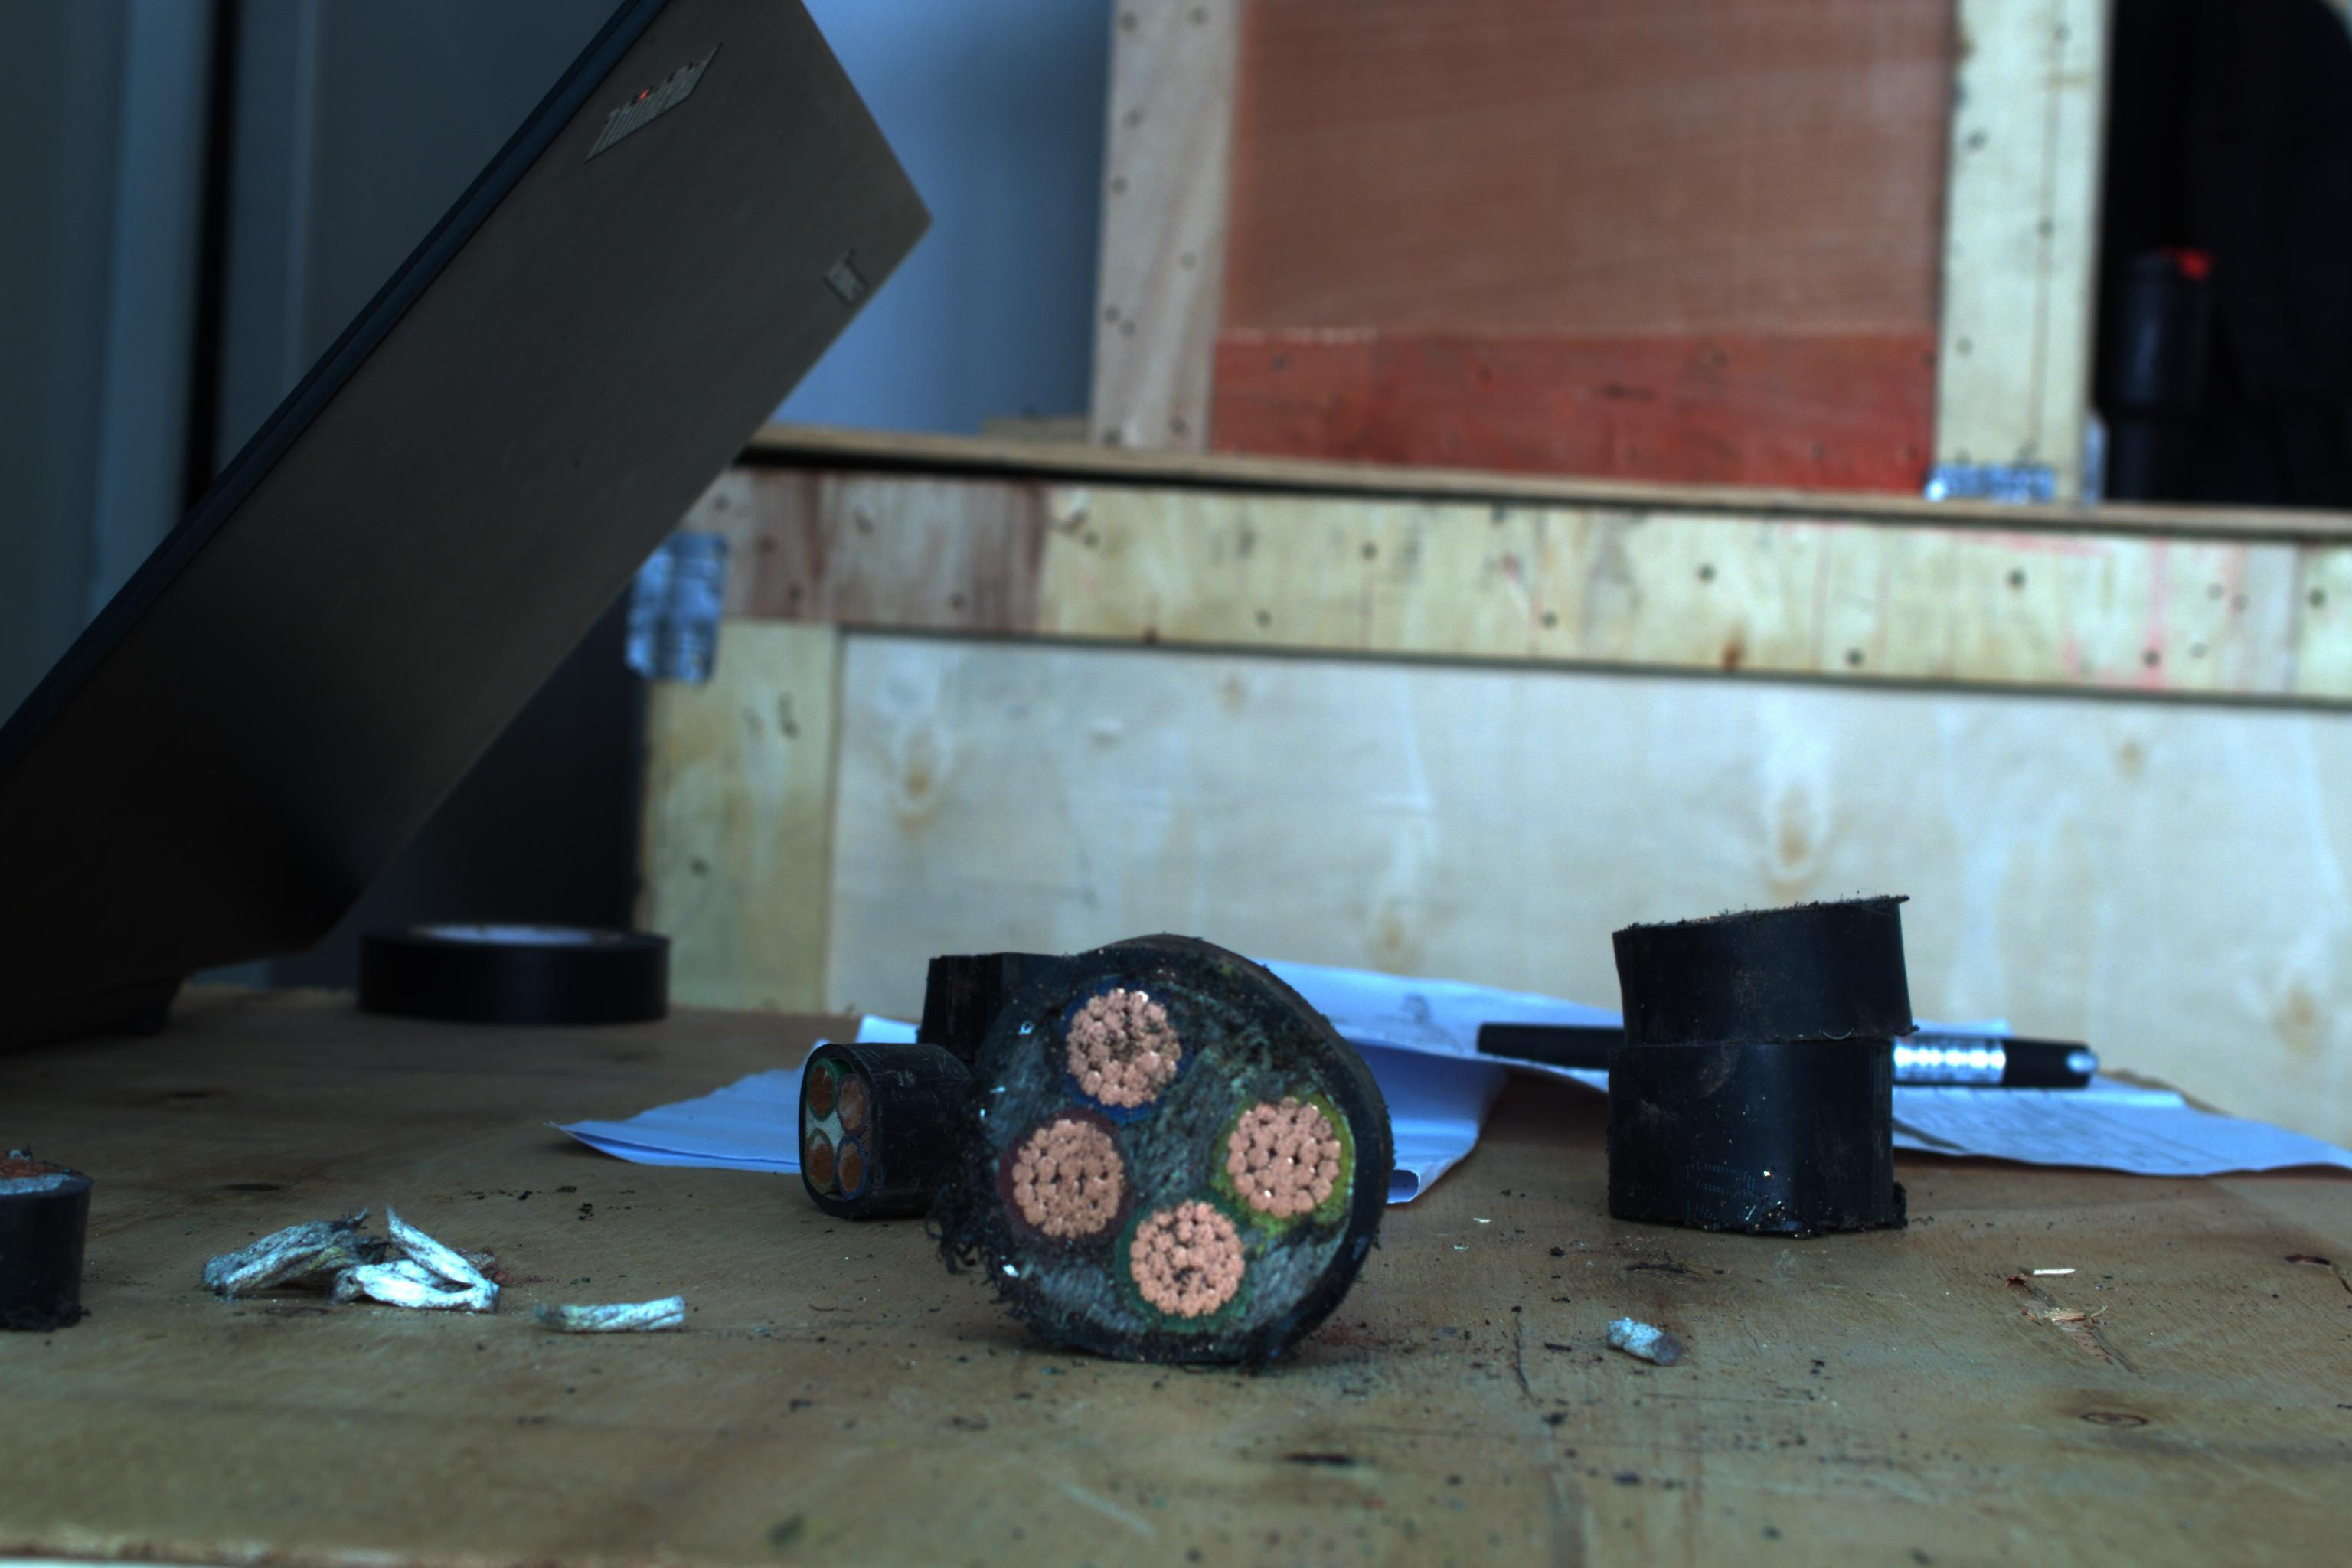YJV_0.6_1kV_4x120: (978, 933, 1370, 1370)
